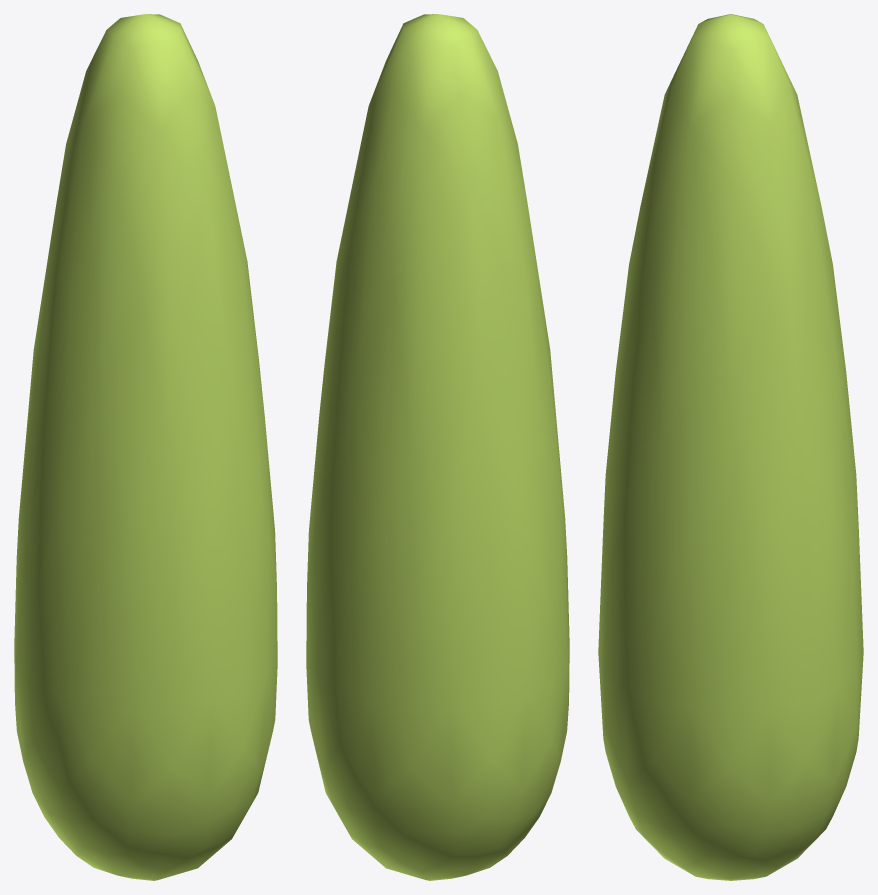
Rendered from BushTree_D.fbx.
3 views of the same model, side by side, from view 1: azimuth 30°, elevation 25°; view 2: azimuth 150°, elevation 25°; view 3: azimuth 270°, elevation 25° (orthographic).
Parts seen in each view (by area): view 1: Thuja_BushTree_m_05; view 2: Thuja_BushTree_m_05; view 3: Thuja_BushTree_m_05.
Part boxes in pixels (box(x1,y1,x2,y2)): Thuja_BushTree_m_05: box(14, 14, 277, 880); Thuja_BushTree_m_05: box(306, 14, 569, 880); Thuja_BushTree_m_05: box(598, 14, 863, 880).
Bounding box in the file's own units: 111 × 394 × 111.
